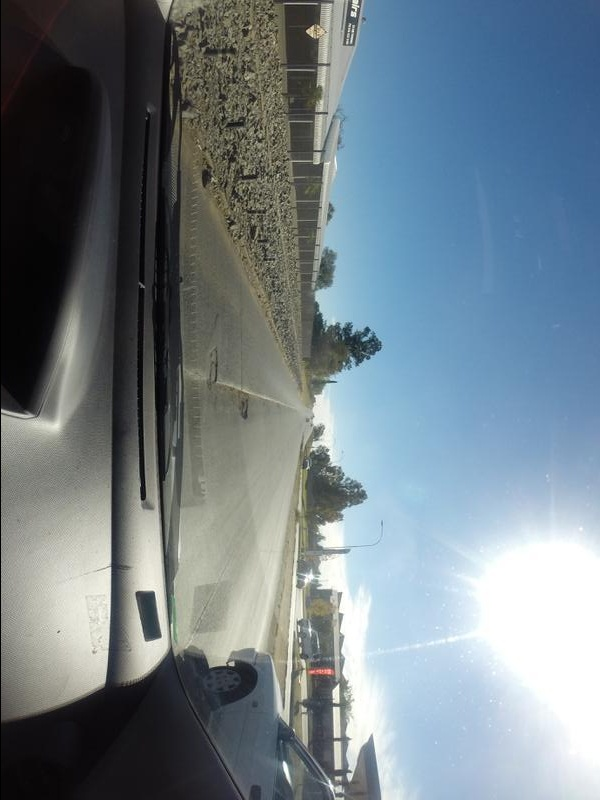pothole: (206, 352, 220, 391), (237, 395, 251, 421)
